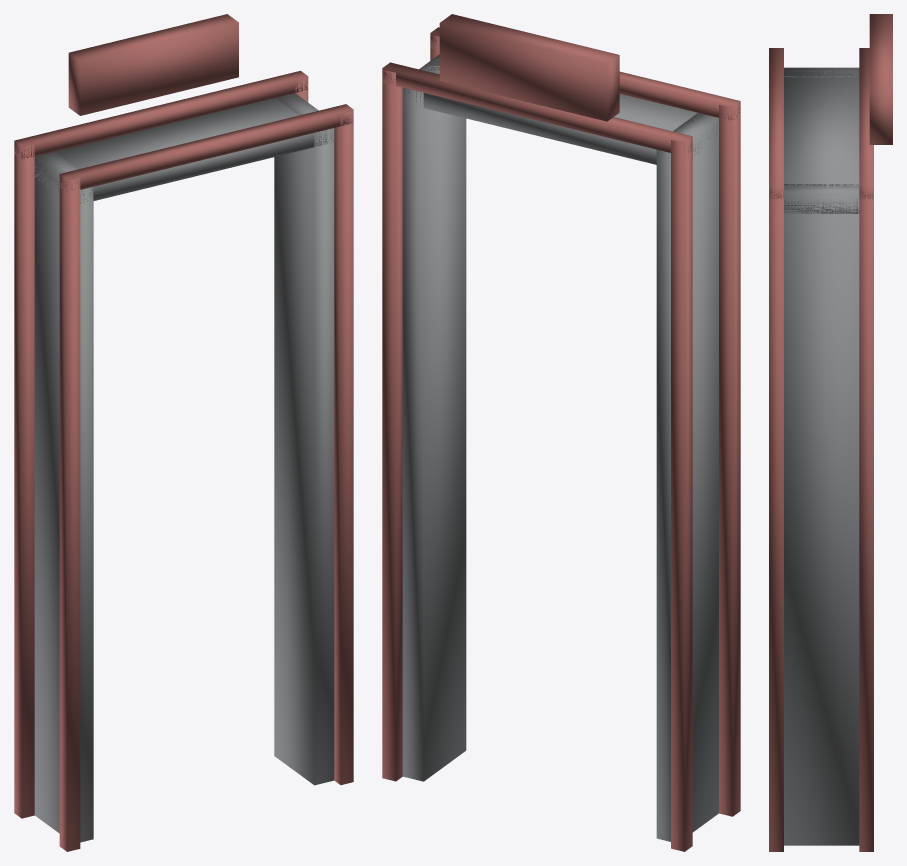
File: doorway_emergency_exit_w76_h210_d24.glb
3 renders of one model, left to right at view 1: azimuth 30°, elevation 25°; view 2: azimuth 150°, elevation 25°; view 3: azimuth 270°, elevation 25°, orthographic. The views are drawn at different scales.
Parts seen in each view (by area): view 1: world; view 2: world; view 3: world.
Boxes of the visible parts, x1,y1,x2,y2 form: world: [14, 14, 353, 851]; world: [382, 14, 740, 851]; world: [769, 14, 892, 851].
Bounding box in the file's own units: 0.9868 × 2.43 × 0.3733.
